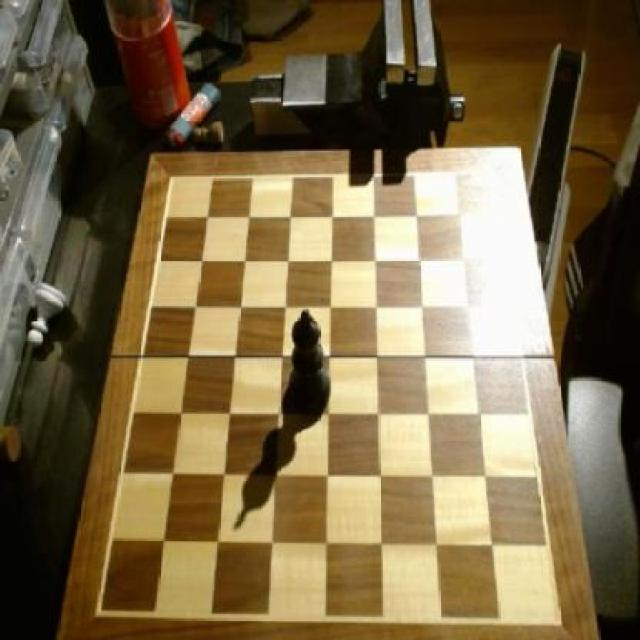black-bishop: (290, 306, 336, 417)
